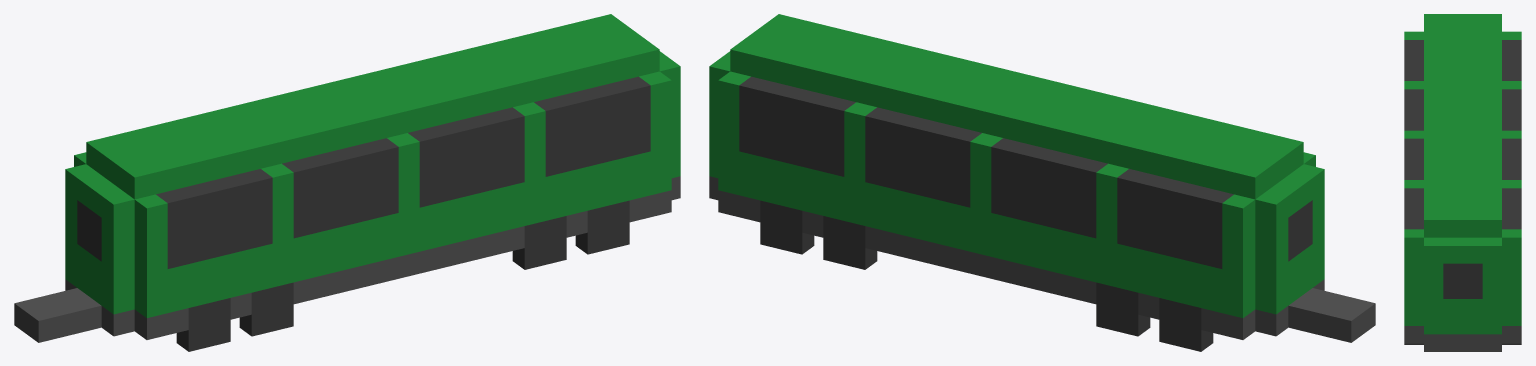
The model's file is train-trailer-v2-green.gltf.
The picture shows the model from 3 angles, left to right: view 1: azimuth 30°, elevation 25°; view 2: azimuth 150°, elevation 25°; view 3: azimuth 270°, elevation 25°; orthographic projection. The views are drawn at different scales.
Parts seen in each view (by area): view 1: model, wheels; view 2: model, wheels; view 3: model.
Part boxes in pixels (box(x1,y1,x2,y2)): model: box(14, 14, 680, 342); wheels: box(176, 200, 629, 351); model: box(709, 14, 1375, 342); wheels: box(760, 200, 1213, 351); model: box(1404, 14, 1521, 351).
Size of the model in its own units: 3 by 0.8 by 0.6.
Materials: 2 (2 with a texture image).
